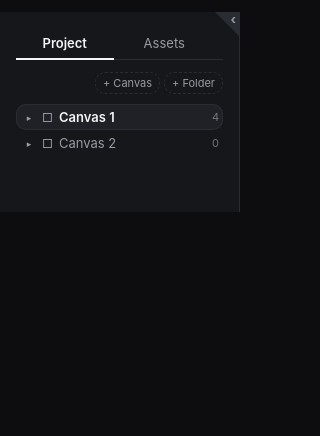
Test case: the board's shelf, one kind at a time › narrows the shelf to a word in what was said
Click the tab with test id "left-tab-assets" at {"x": 164, "y": 44}, box [116,28,213,60]
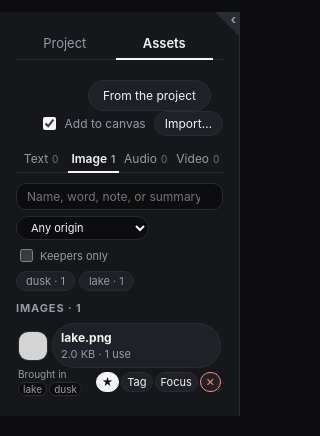
Type "lantern" into the search field with test id "shelf-asked" at {"x": 120, "y": 196}, box [16,183,223,210]
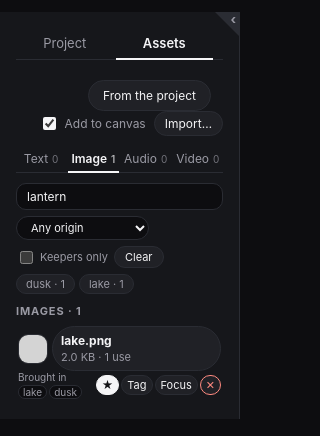
Replace the text in the search field with test id "shelf-asked" with "opening" at {"x": 120, "y": 196}, box [16,183,223,210]
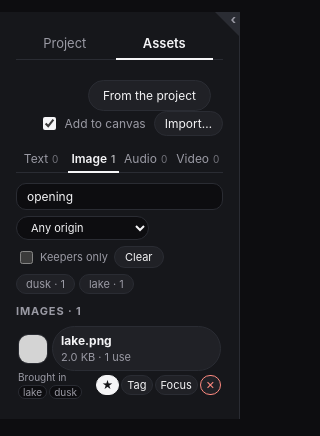
Replace the text in the search field with test id "shelf-asked" with "opening-lines" at {"x": 120, "y": 196}, box [16,183,223,210]
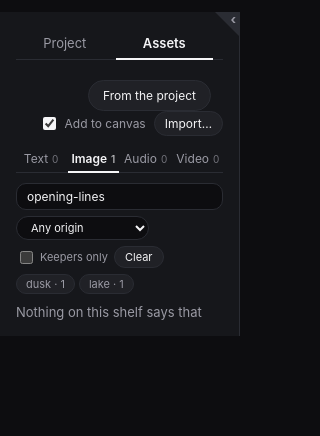
Expected: the text "Nothing on this shelf says that" is shown, [16,304,223,320]
